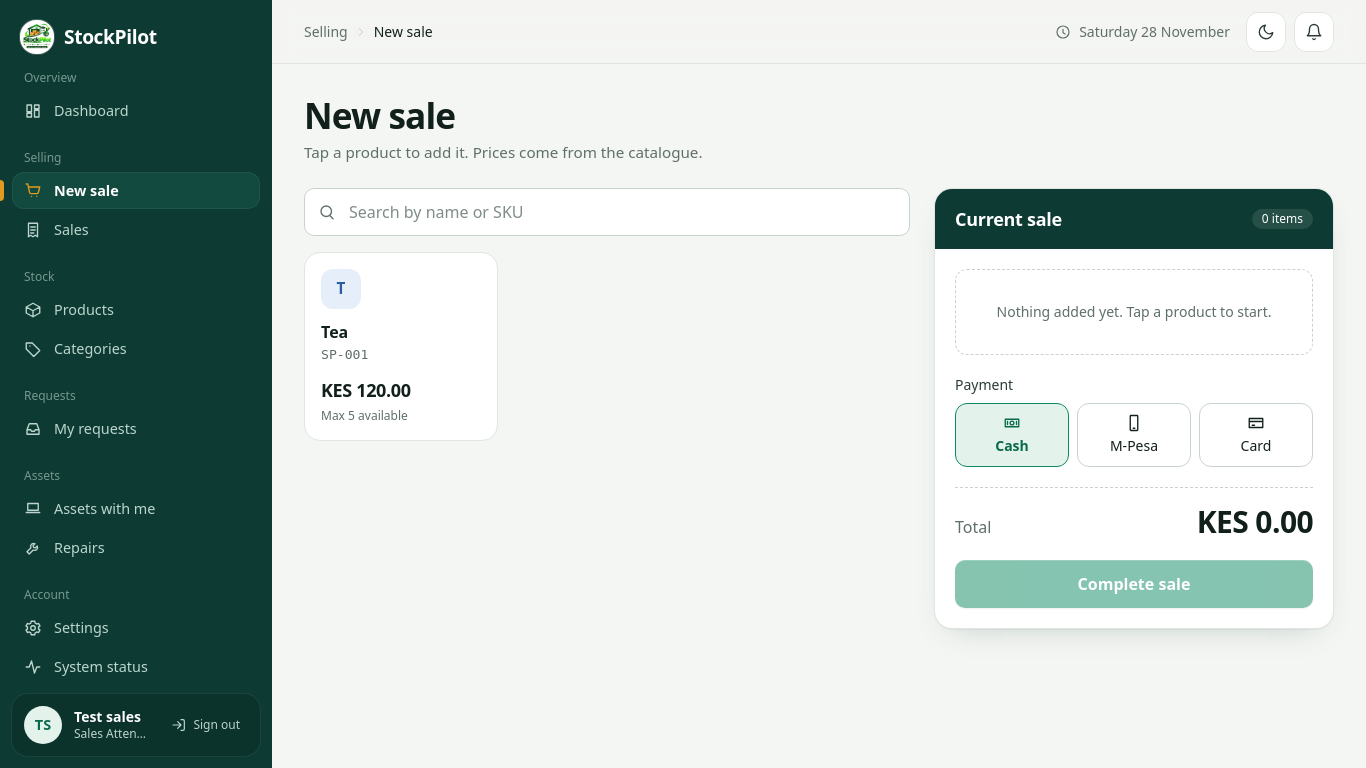
Test: M-Pesa at the till › says why when the customer cancels, and keeps the cart
The width and height of the screenshot is (1366, 768).
Step 1. Click the button with aria-label "Add Tea" → (401, 346), box left=304, top=252, right=498, bottom=441
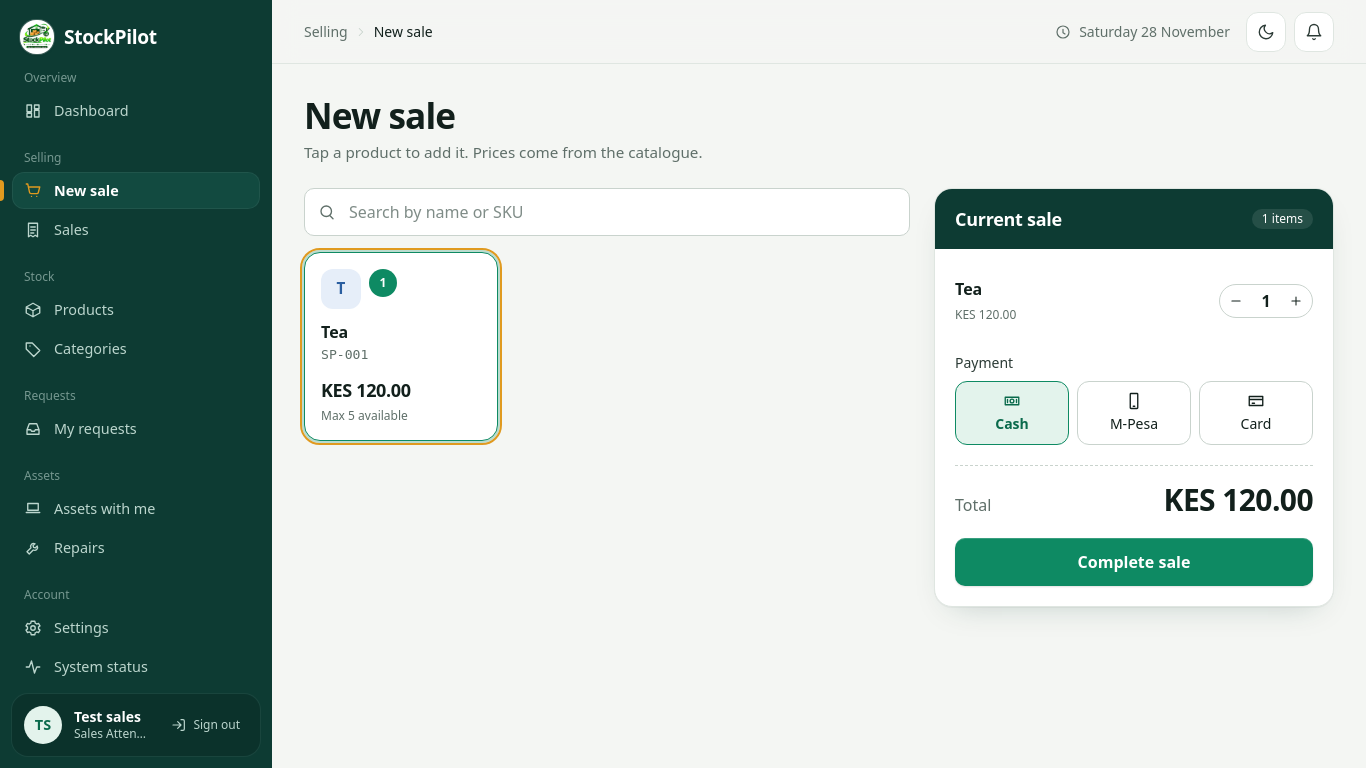
Step 2. Click the radio button "M-Pesa" → (1134, 412), box left=1077, top=380, right=1191, bottom=444
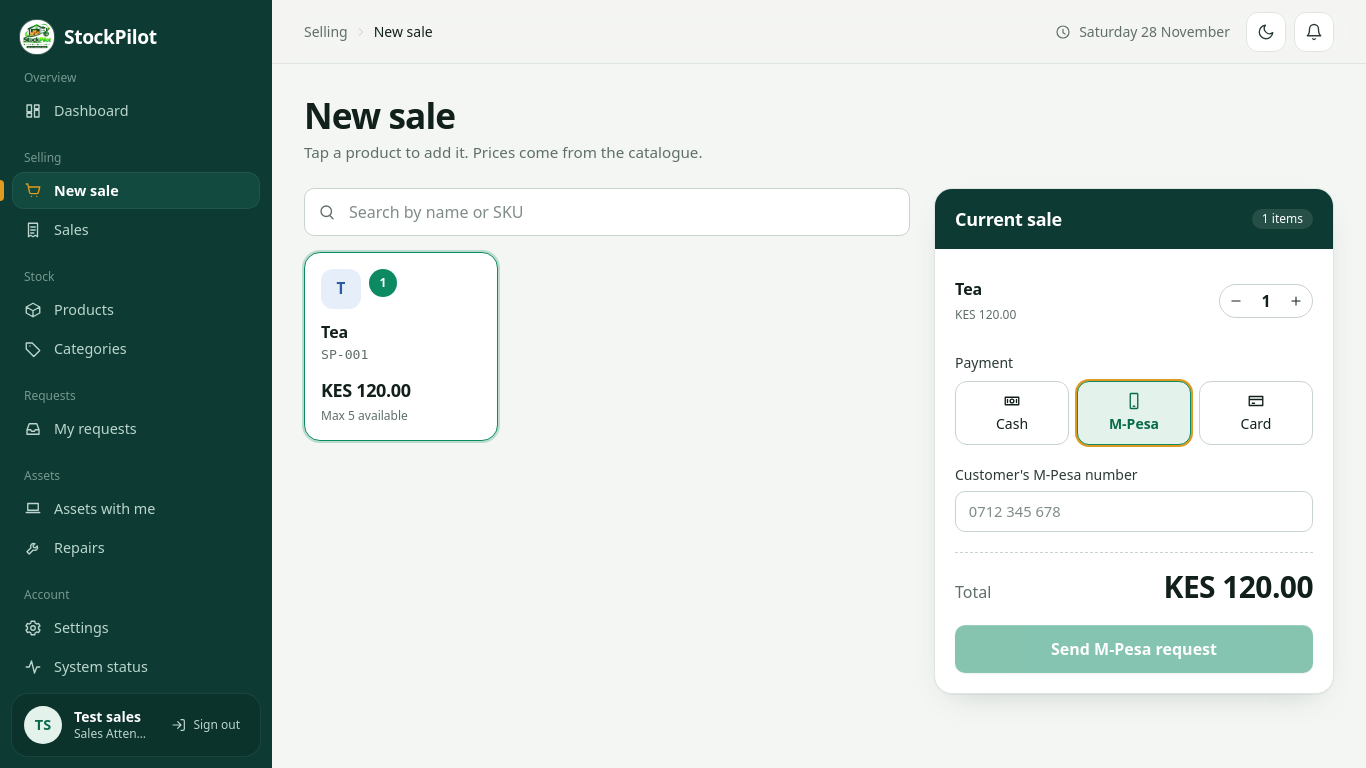
Step 3. Type "0712345678" into the field labelled "Customer's M-Pesa number" → (1134, 511), box left=955, top=490, right=1313, bottom=532
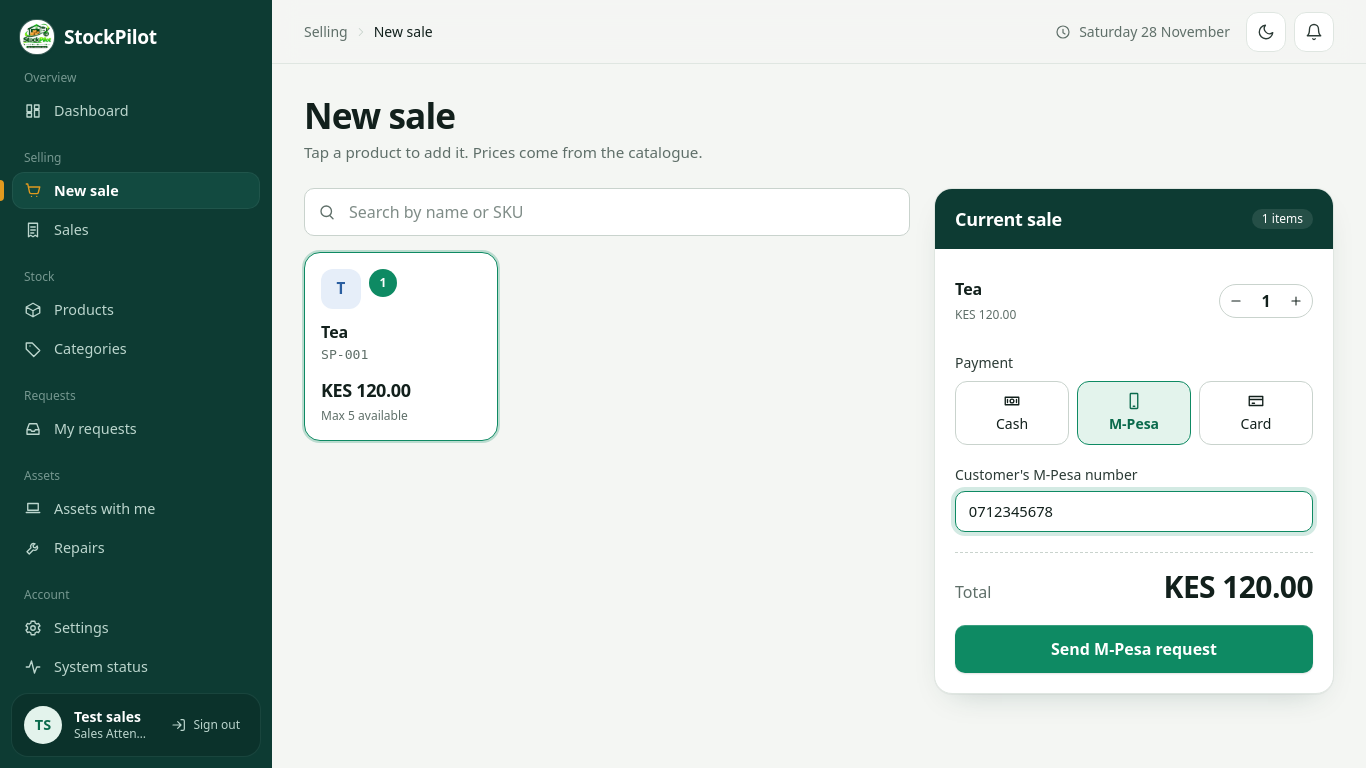
Step 4. Click the button "Send M-Pesa request" → (1134, 649), box left=955, top=625, right=1313, bottom=673
(page scrolled)
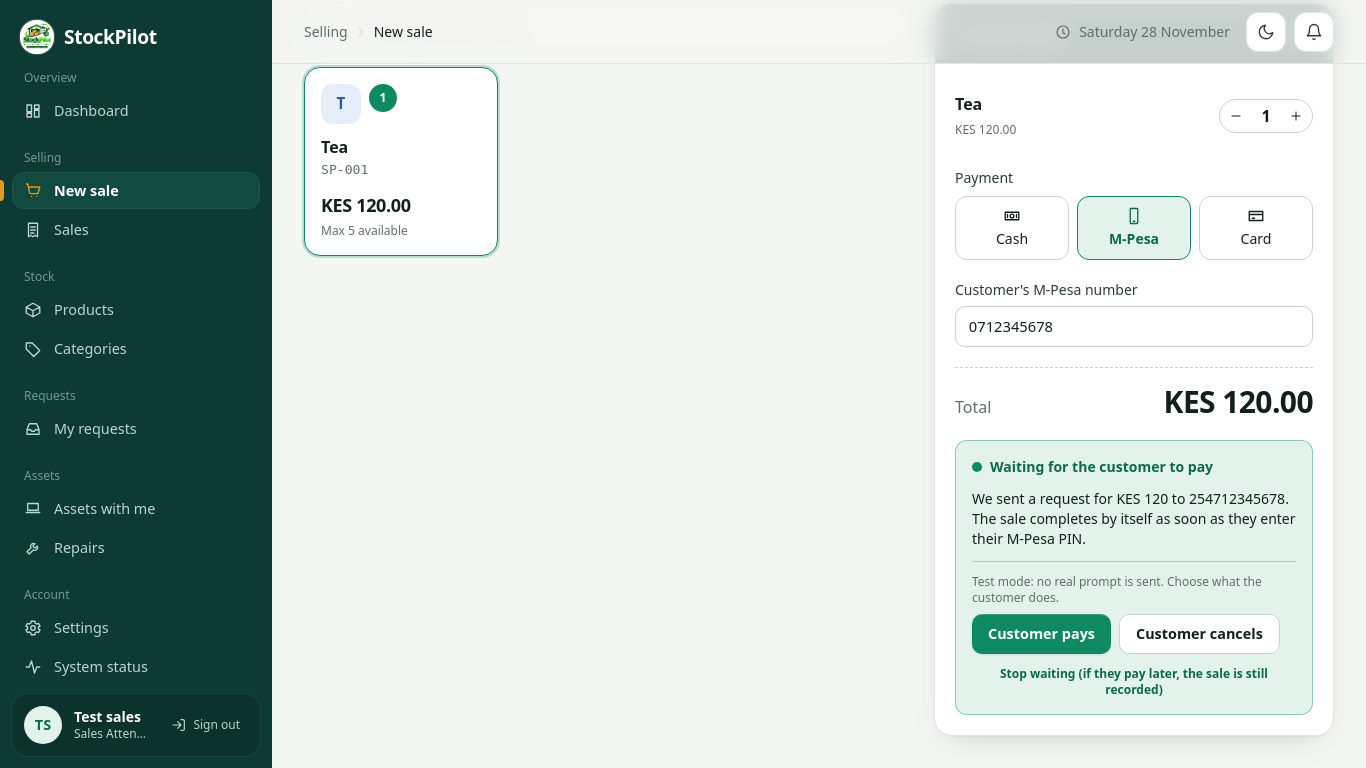
Step 5. Click the button "Customer cancels" → (1199, 634), box left=1119, top=614, right=1280, bottom=654
(page scrolled)
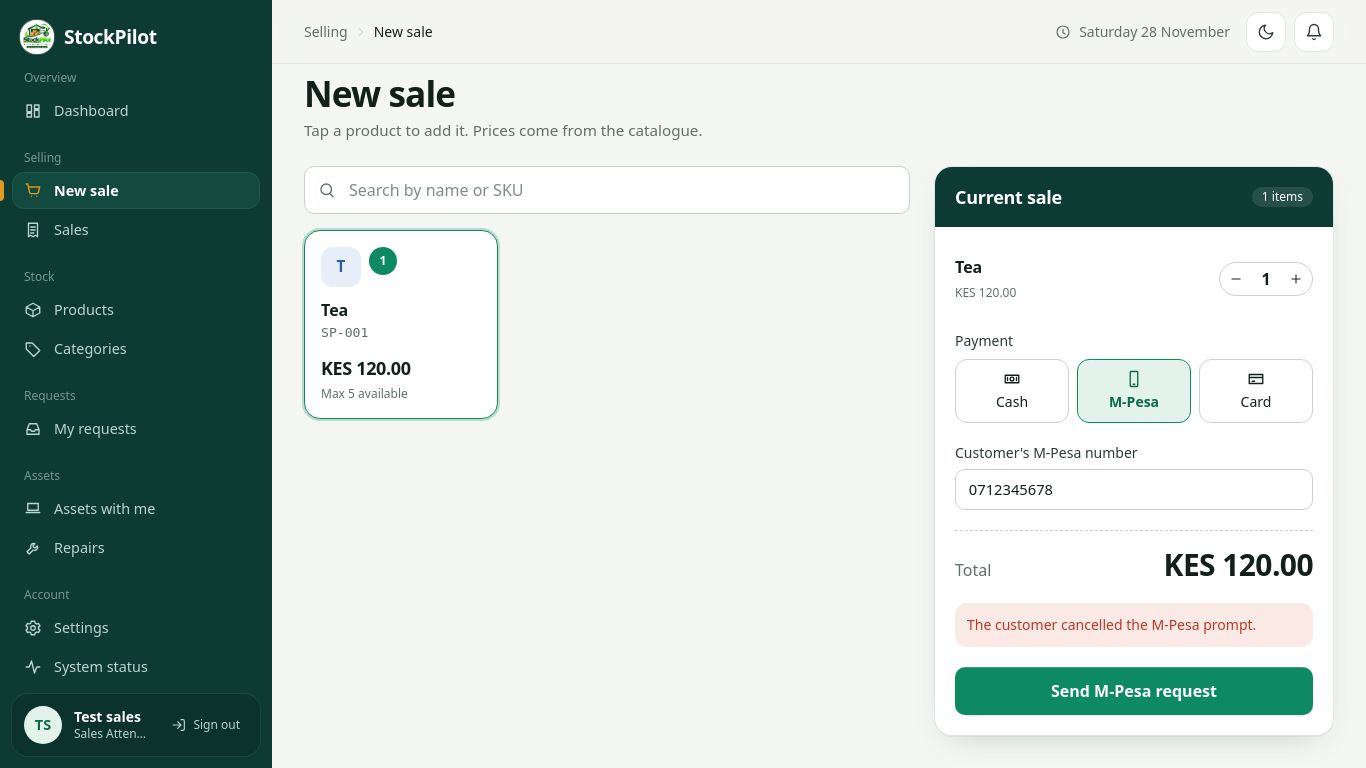
Check: the text with test id "qty-1" reads "1", box left=1261, top=268, right=1271, bottom=290
Check: the button "Send M-Pesa request" is enabled, box left=955, top=667, right=1313, bottom=715
Check: the message reads "The customer cancelled the M-Pesa prompt.", box left=967, top=615, right=1256, bottom=634
